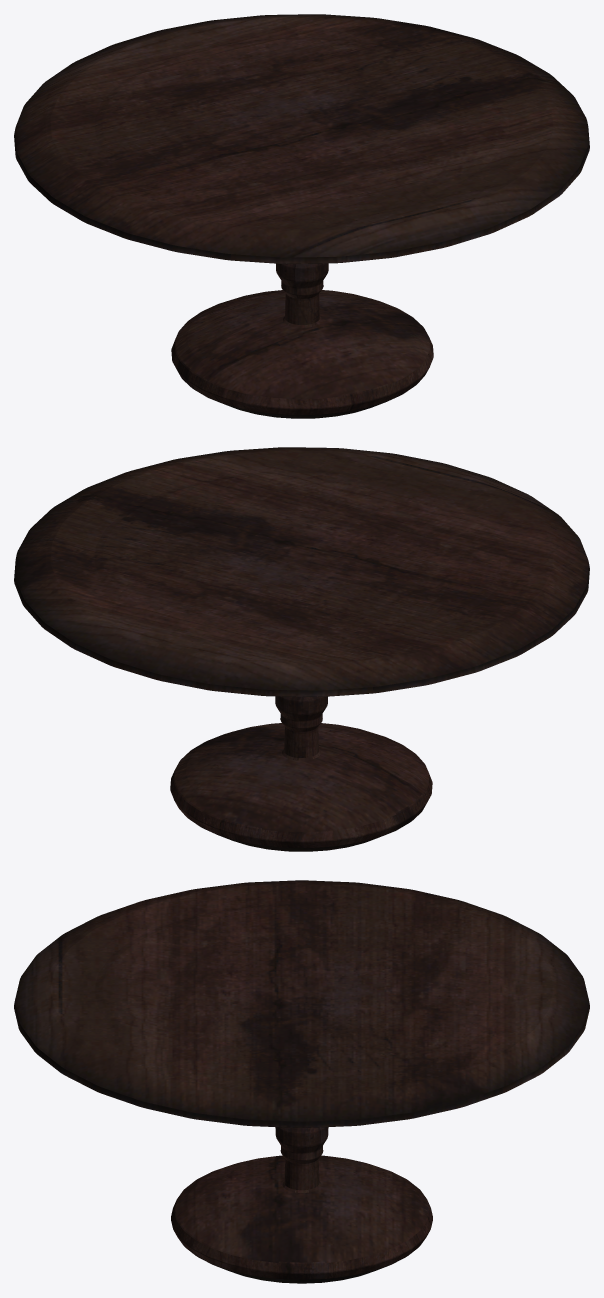
The model's file is table.dae.
3 views of the same model, one above another, from view 1: azimuth 30°, elevation 25°; view 2: azimuth 150°, elevation 25°; view 3: azimuth 270°, elevation 25° (orthographic).
Parts seen in each view (by area): view 1: table; view 2: table; view 3: table.
Boxes of the visible parts, <box> form: table: <box>14,14,589,418</box>; table: <box>14,447,589,851</box>; table: <box>14,880,589,1283</box>.
Bounding box in the file's own units: 1.65 × 1.65 × 0.7944.
1 material, 1 textured.
